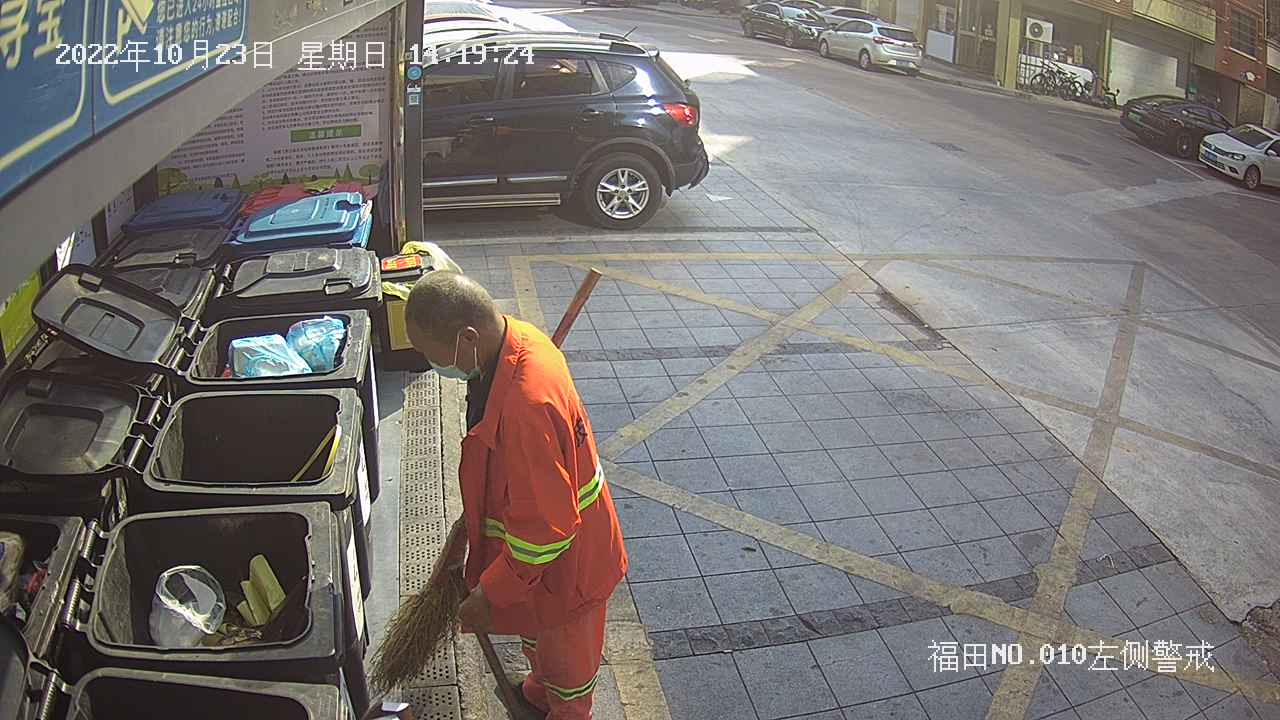worker: (397, 266, 638, 720)
